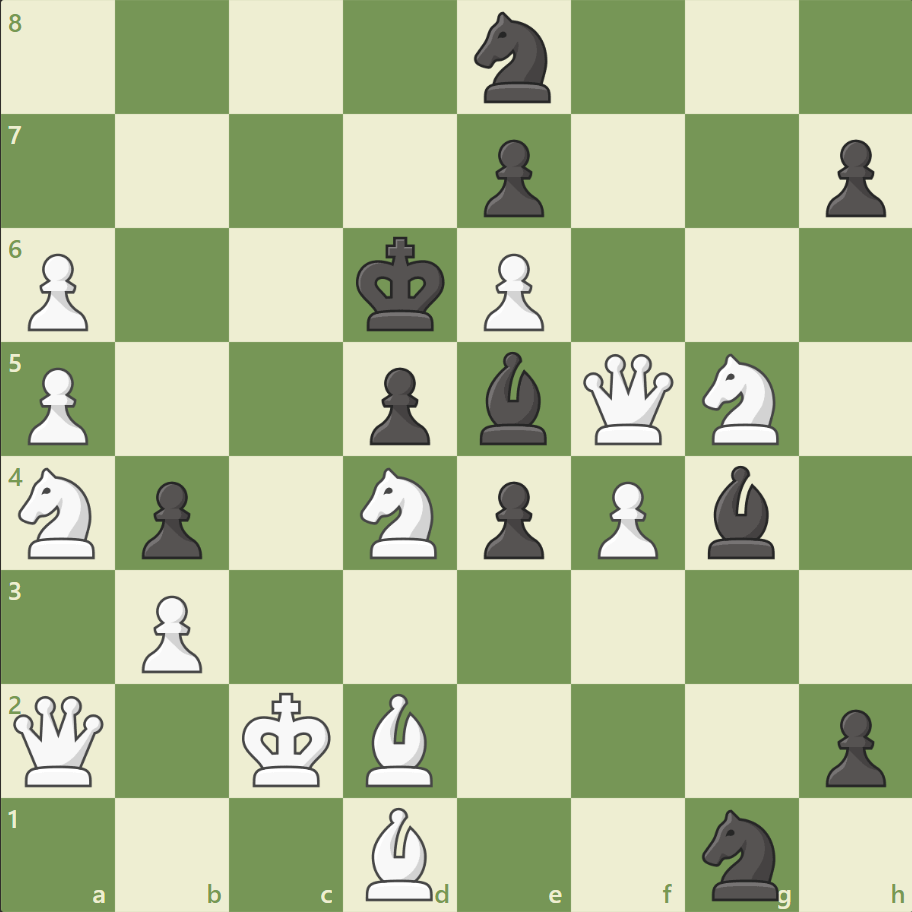B: (358, 687, 442, 790), (358, 801, 442, 904)
K: (238, 685, 338, 793)
N: (351, 461, 449, 564), (11, 461, 108, 564), (692, 348, 789, 450)
P: (20, 246, 95, 337), (474, 246, 549, 337), (20, 359, 95, 450), (133, 586, 208, 677), (588, 473, 662, 564)
Q: (578, 349, 677, 449), (10, 690, 109, 789)
b: (698, 460, 782, 563), (471, 347, 555, 449)
k: (351, 231, 451, 339)
n: (465, 7, 562, 110), (692, 802, 789, 904)
p: (474, 132, 549, 223), (133, 473, 208, 564), (474, 473, 549, 564), (815, 132, 889, 223), (361, 359, 435, 450), (815, 700, 889, 791)
